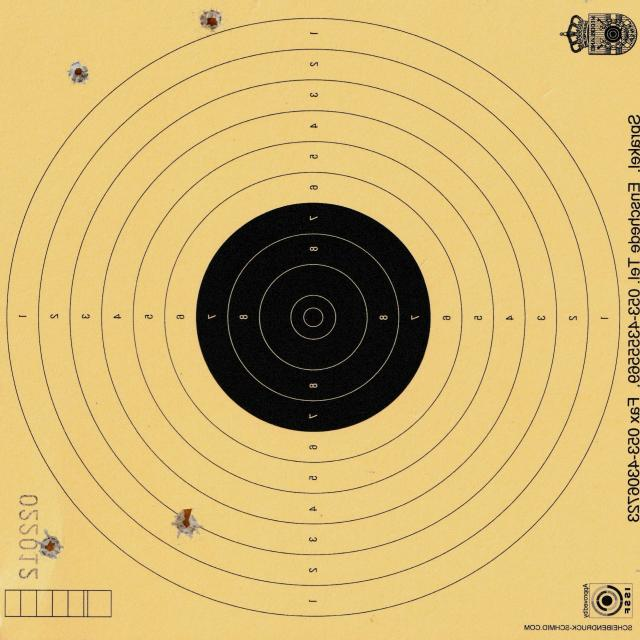0: (36, 531, 65, 561), (64, 61, 90, 86), (198, 7, 223, 33)
3: (170, 508, 204, 540)
Target: (4, 16, 623, 623)
black_contour: (196, 202, 431, 432)
